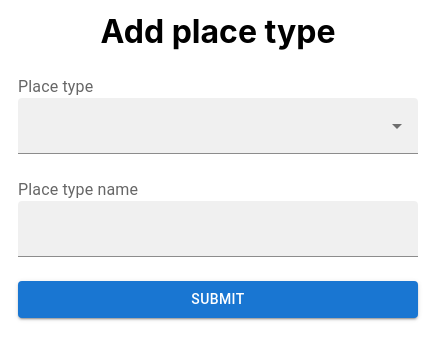
AddPlaceType test › place name › show error icon if place name was exist in the database
Type "Xe cộ" into the dropdown labelled "Place type name" at coordinates (202, 238), box [26,220,379,257]
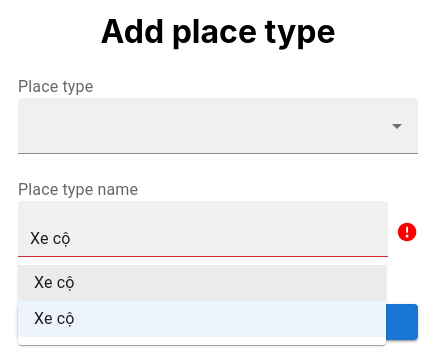
Now the icon with test id "add-place-icon-error" is shown, box [396,220,418,244]
